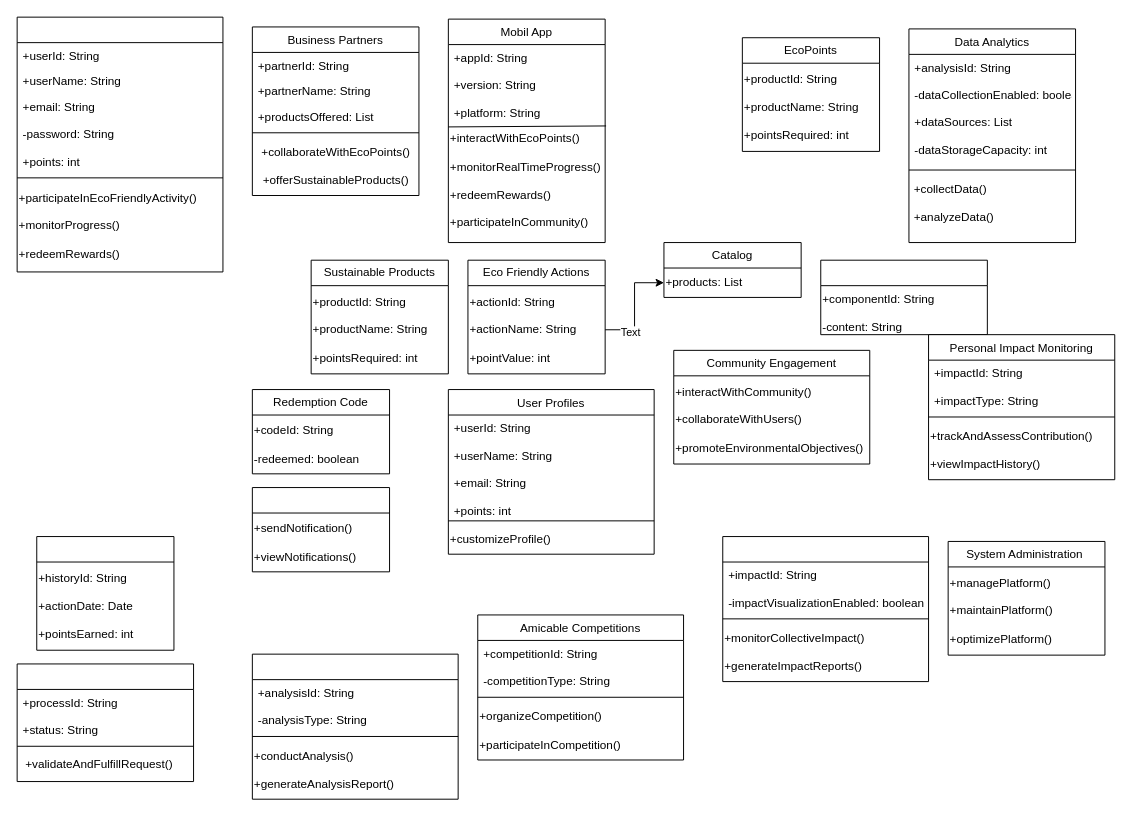
Some shapes in this 1132 by 816 pixel diagram are drawn without their labels. Here are the shapes that lost their labels. From the top down, the box of each, then its label:
(16, 16, 223, 272): Users
(820, 259, 987, 335): Educational Components
(251, 487, 390, 572): System Notifications
(36, 536, 174, 650): EcoPoints History
(722, 536, 929, 682): Collective Impact Monitoring
(16, 663, 194, 782): Reward Redemption Process
(251, 653, 458, 799): Sustainable Trends Analysis
